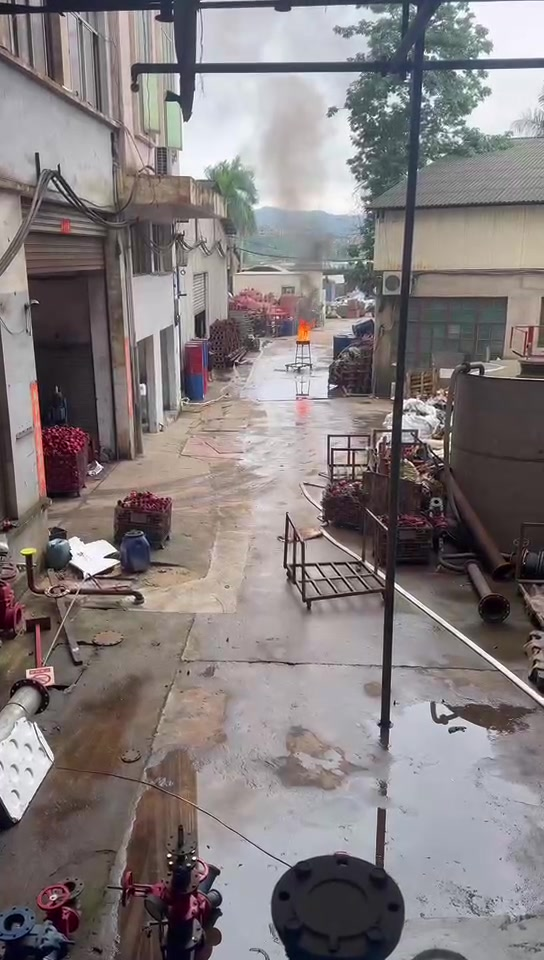fire: (298, 318, 309, 340)
